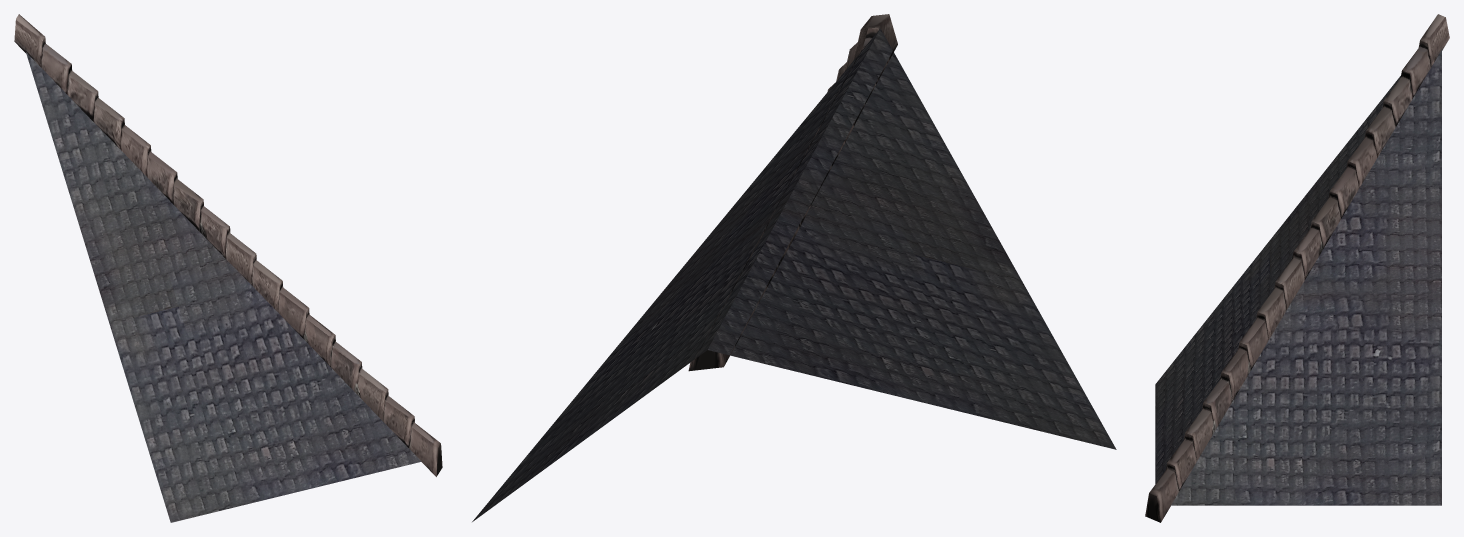
File: RoofCorner3x5-2A.fbx
3 renders of one model, left to right at view 1: azimuth 30°, elevation 25°; view 2: azimuth 150°, elevation 25°; view 3: azimuth 270°, elevation 25°, orthographic. The views are drawn at different scales.
Visible parts, largest first — view 1: RoofCorner3x5-2A; view 2: RoofCorner3x5-2A; view 3: RoofCorner3x5-2A.
Part boxes in pixels (x1=…): RoofCorner3x5-2A: x1=14, y1=14, x2=442, y2=522; RoofCorner3x5-2A: x1=472, y1=14, x2=1116, y2=521; RoofCorner3x5-2A: x1=1145, y1=14, x2=1449, y2=522.
Size of the model in its own units: 382 by 529 by 382.
